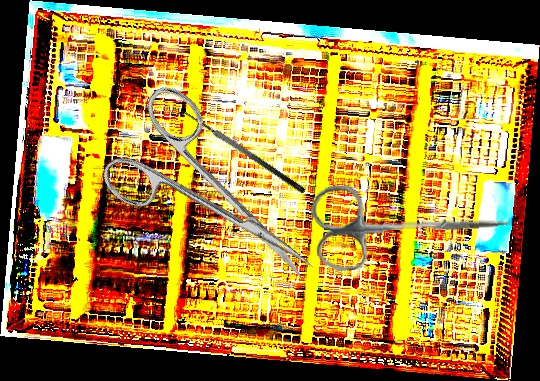Iris Scissors: (85, 77, 346, 324), (309, 176, 515, 273)
Spatula Surgical: (171, 101, 308, 205)
